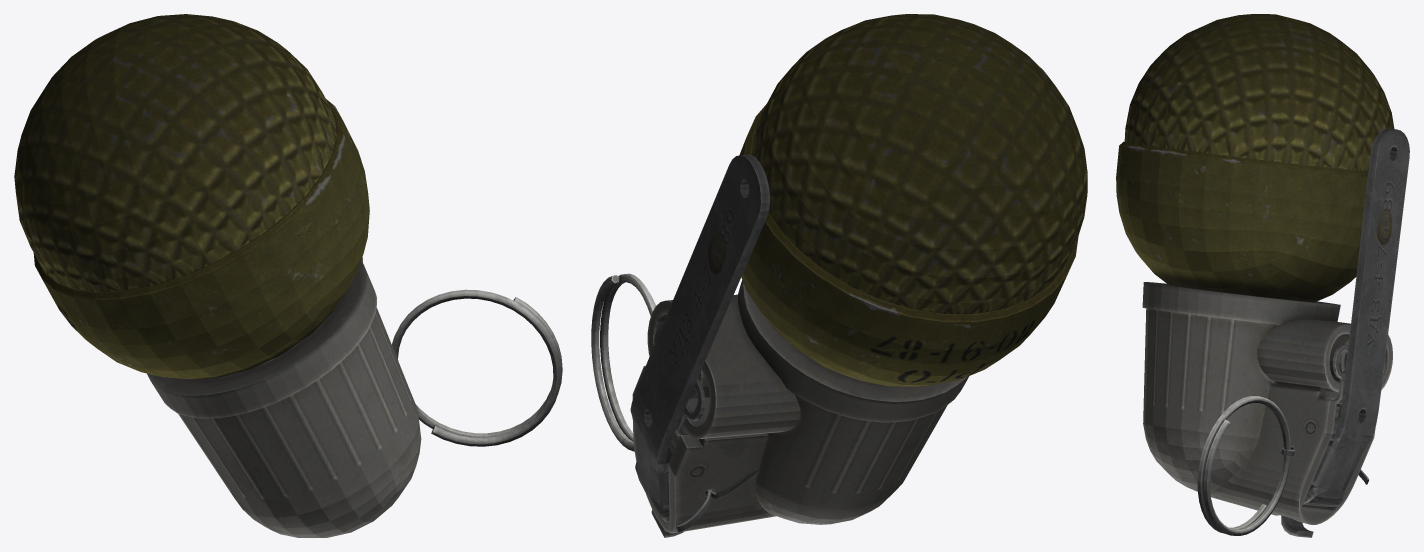
3 views of the same model, side by side, from view 1: azimuth 30°, elevation 25°; view 2: azimuth 150°, elevation 25°; view 3: azimuth 270°, elevation 25° (orthographic). The views are drawn at different scales.
Parts seen in each view (by area): view 1: TW_618a431df1eb8e24b8741deb_PZ_Import; view 2: TW_618a431df1eb8e24b8741deb_PZ_Import; view 3: TW_618a431df1eb8e24b8741deb_PZ_Import.
Part boxes in pixels (box(x1,y1,x2,y2)): TW_618a431df1eb8e24b8741deb_PZ_Import: box(14, 14, 562, 537); TW_618a431df1eb8e24b8741deb_PZ_Import: box(591, 14, 1087, 537); TW_618a431df1eb8e24b8741deb_PZ_Import: box(1116, 14, 1409, 537).
Bounding box in the file's own units: 0.0592 × 0.0373 × 0.0599.
1 material, 1 textured.
